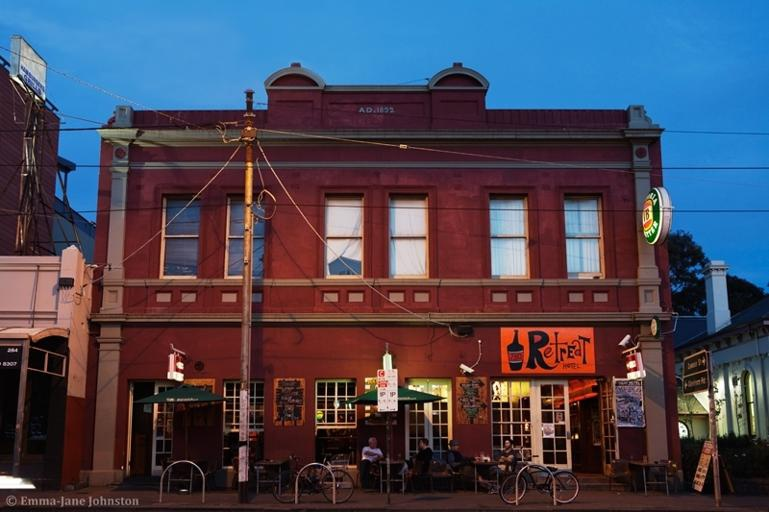non-vehicle: (499, 446, 579, 505), (271, 452, 354, 503)
